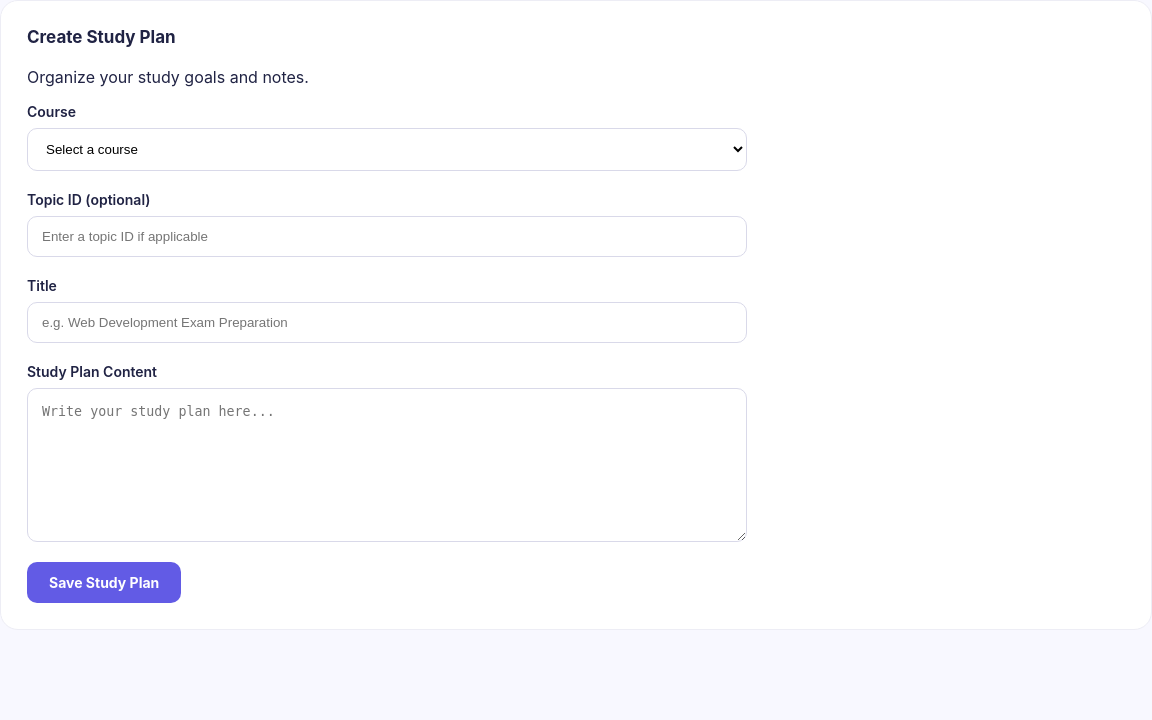
StudyPlanForm › rejects missing required fields without submitting
The width and height of the screenshot is (1152, 720).
What coordinates should you click on to do the following:
click the button "Save Study Plan"
I would click on:
 (104, 582)
Its box is x1=27 y1=562 x2=181 y2=603.
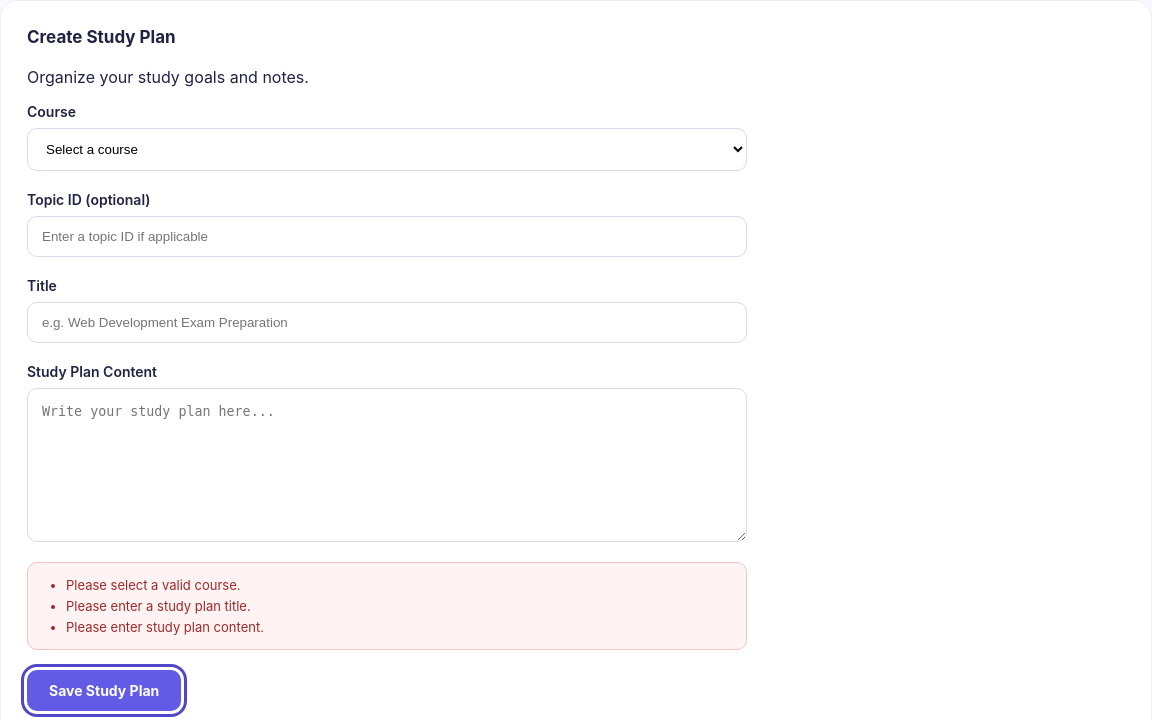
Expected: the list item "Please select a valid course." is shown, x1=66 y1=577 x2=240 y2=593
Expected: the list item "Please enter a study plan title." is shown, x1=66 y1=598 x2=251 y2=614
Expected: the list item "Please enter study plan content." is shown, x1=66 y1=619 x2=264 y2=635
